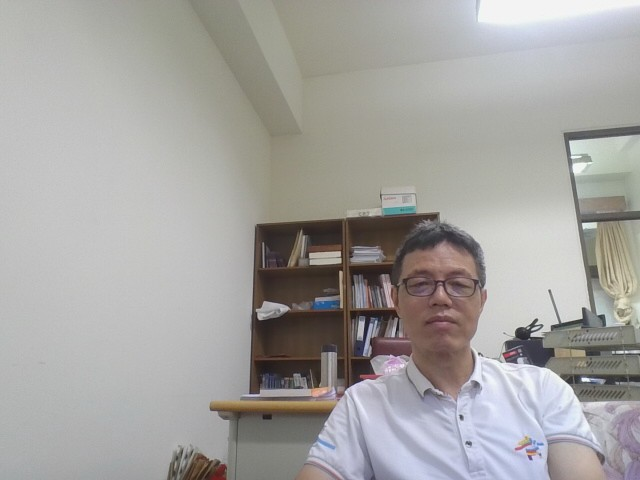No_Helmet: (388, 218, 490, 375)
person: (259, 201, 631, 480)
